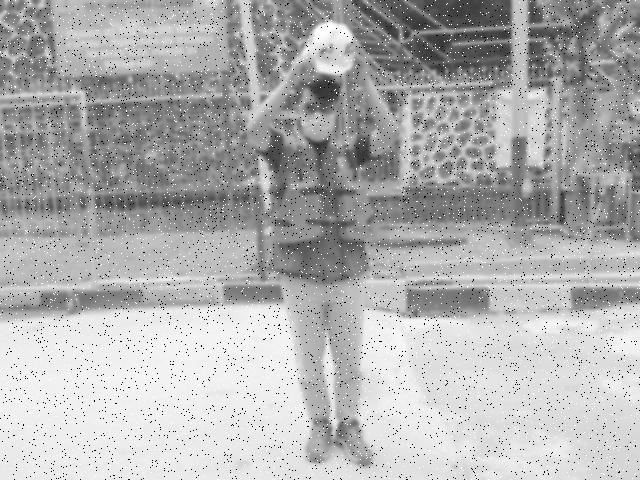helmet: (297, 19, 359, 77)
mask: (301, 113, 336, 141)
safety-shoes: (334, 421, 376, 467), (300, 416, 335, 464)
vest: (269, 162, 384, 246)
